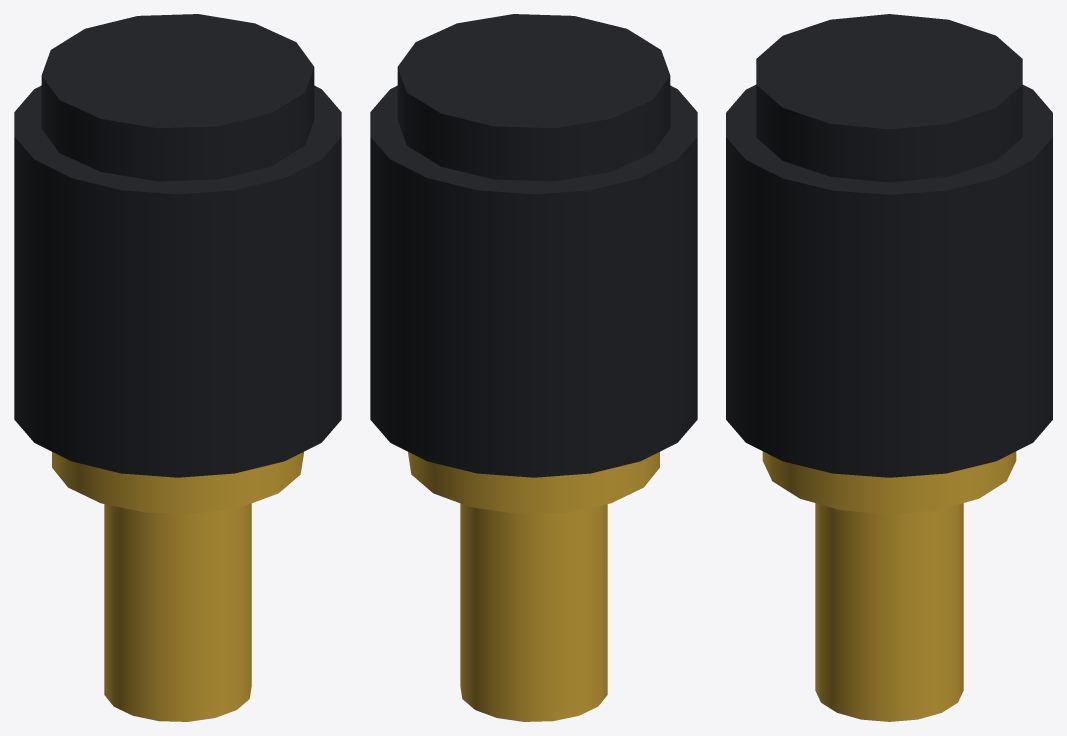
File: PlugKey_Plug.obj
The picture shows the model from 3 angles, left to right: view 1: azimuth 30°, elevation 25°; view 2: azimuth 150°, elevation 25°; view 3: azimuth 270°, elevation 25°; orthographic projection.
Size of the model in its own units: 0.017 by 0.035 by 0.0167.
